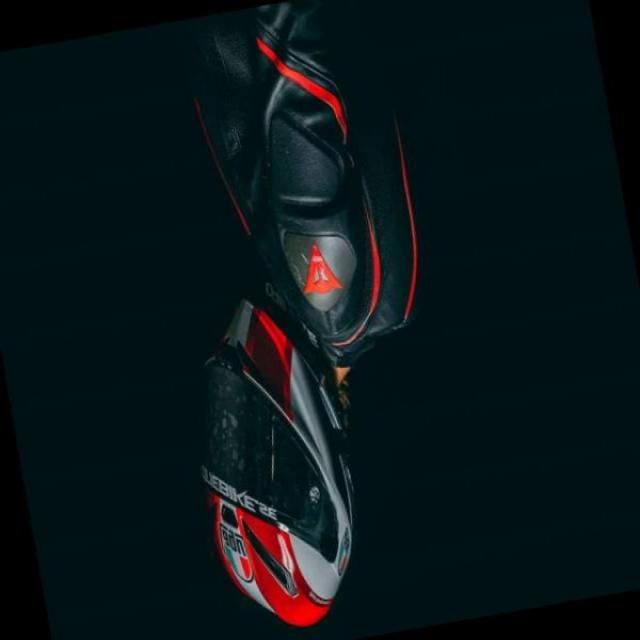Helmet: (193, 304, 380, 631)
